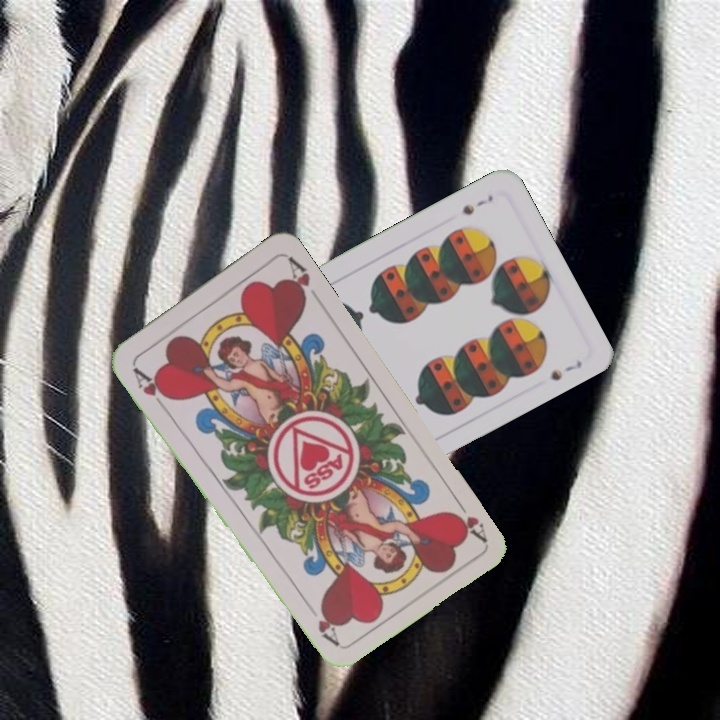HA: (128, 359, 174, 412), (445, 491, 490, 544)
S7: (458, 191, 496, 218)
